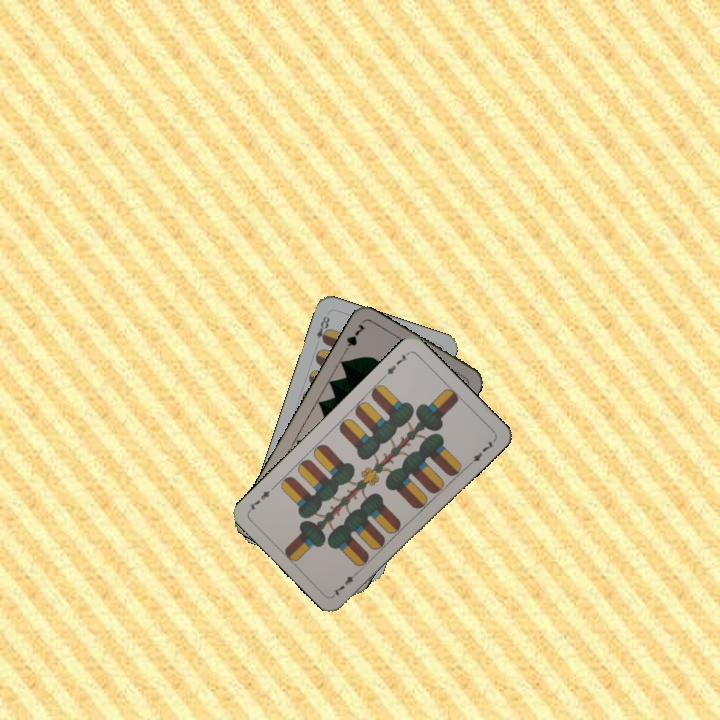E7: (379, 349, 411, 381), (329, 567, 361, 598)
E8: (312, 312, 332, 346)
G7: (339, 320, 369, 357)
